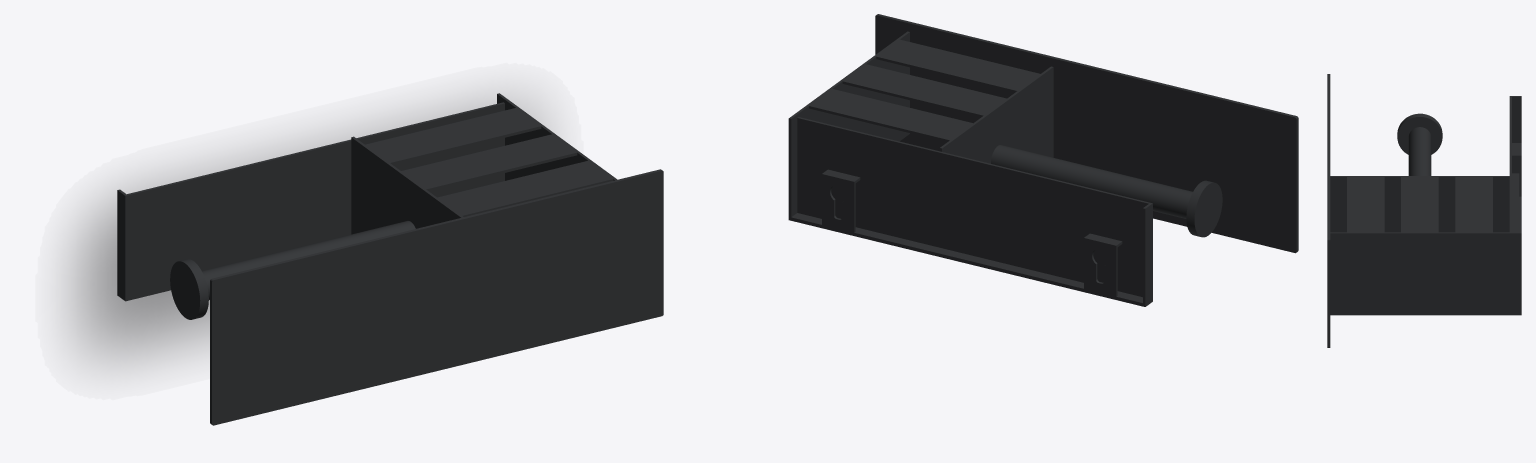
Rendered from skyline-duetto.b3e52ea77e.ar.glb.
3 renders of one model, left to right at view 1: azimuth 30°, elevation 25°; view 2: azimuth 150°, elevation 25°; view 3: azimuth 270°, elevation 25°, orthographic. The views are drawn at different scales.
Visible parts, largest first — view 1: NAUO1, object 2; view 2: NAUO1; view 3: NAUO1.
Part boxes in pixels (x1=…): NAUO1: x1=117, y1=93, x2=663, y2=425; object 2: x1=70, y1=102, x2=536, y2=360; NAUO1: x1=788, y1=14, x2=1298, y2=306; NAUO1: x1=1327, y1=74, x2=1521, y2=347.
Bounding box in the file's own units: 0.34 × 0.16 × 0.129.
2 materials, 1 textured.
